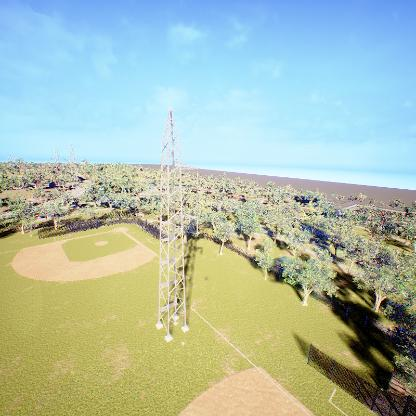tower: (153, 106, 185, 343)
